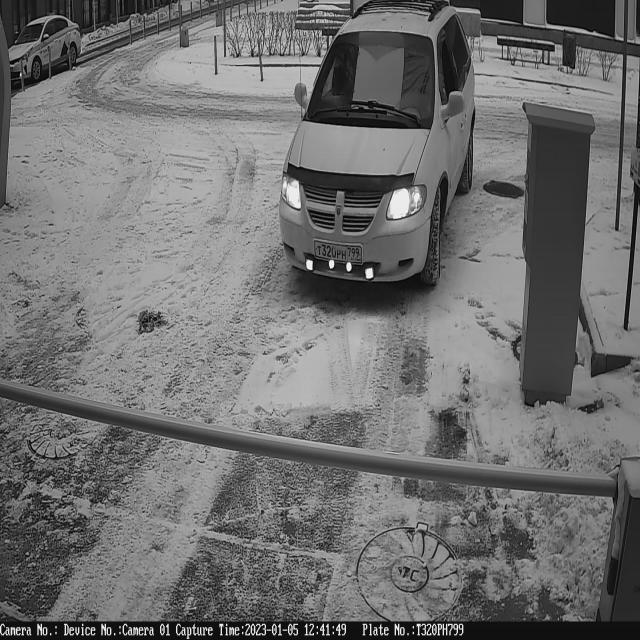car-plate-numbers: (311, 236, 367, 267)
